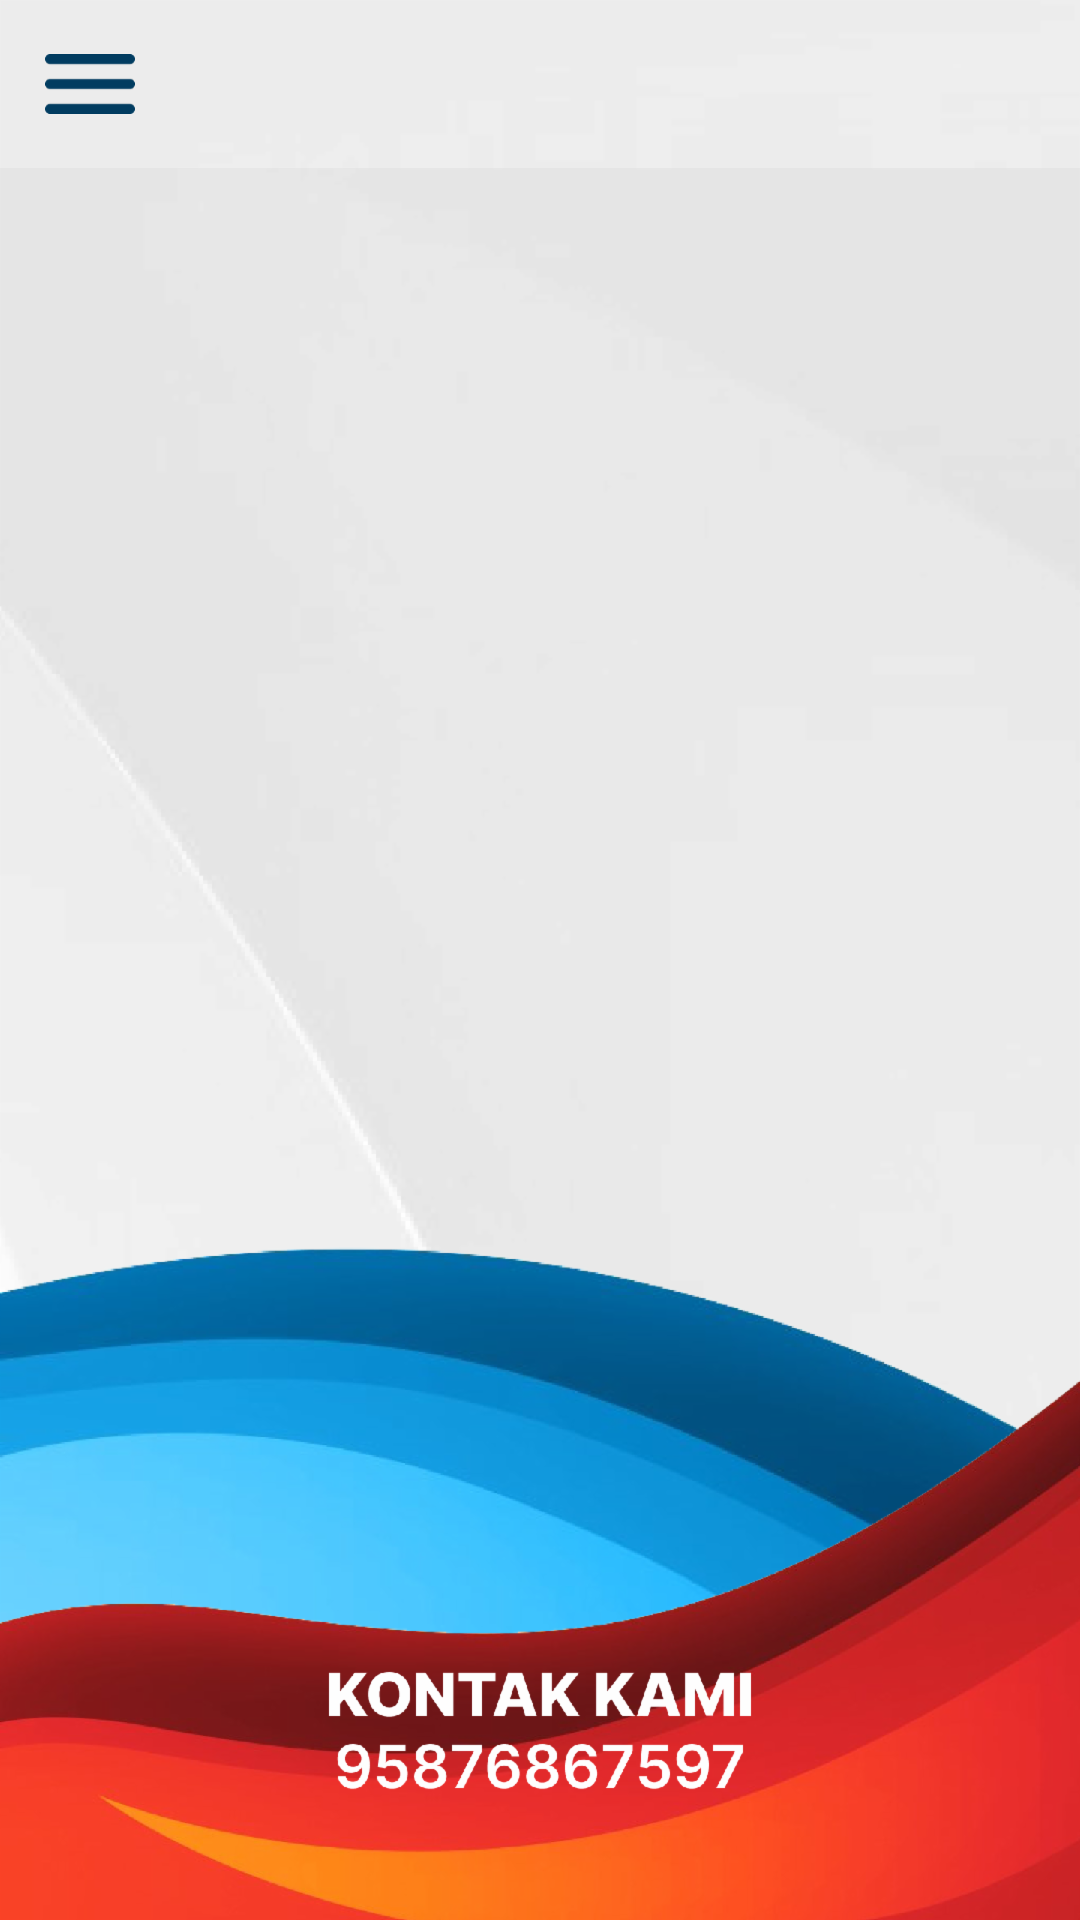

Where icons sit on this 1080x1920 app screen, as (x1, y1, x2, y2):
btnmenu: (45, 54, 135, 114)
